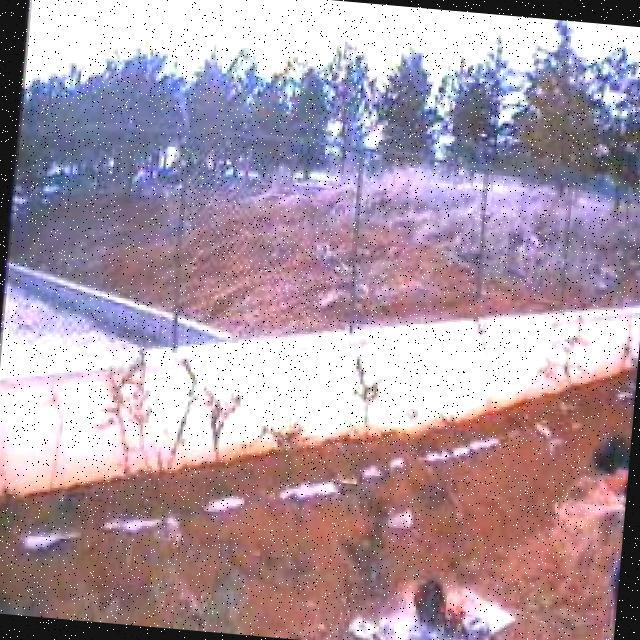Fire: (398, 575, 477, 640)
